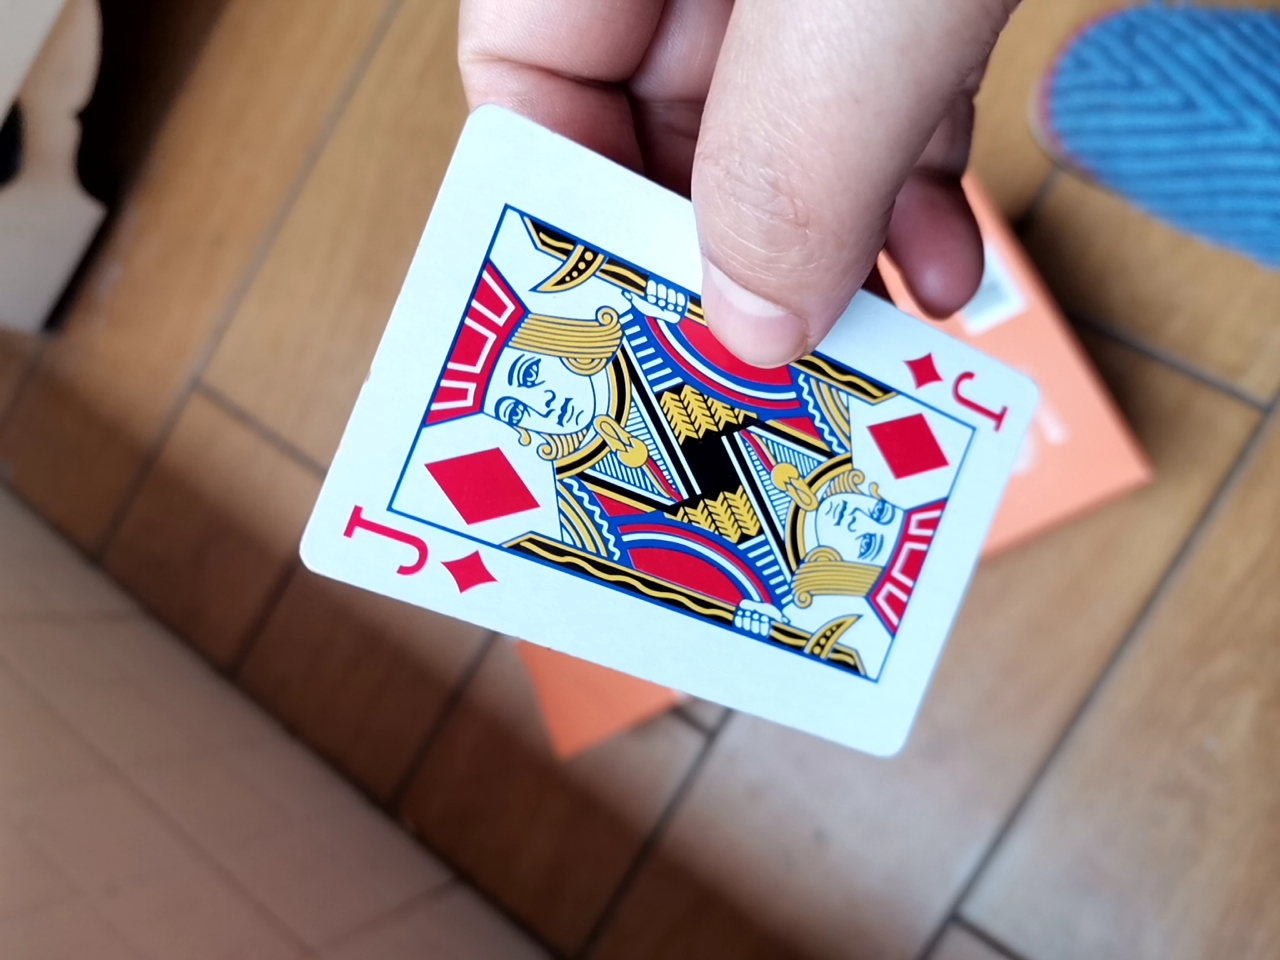fk j: (280, 96, 1036, 787)
